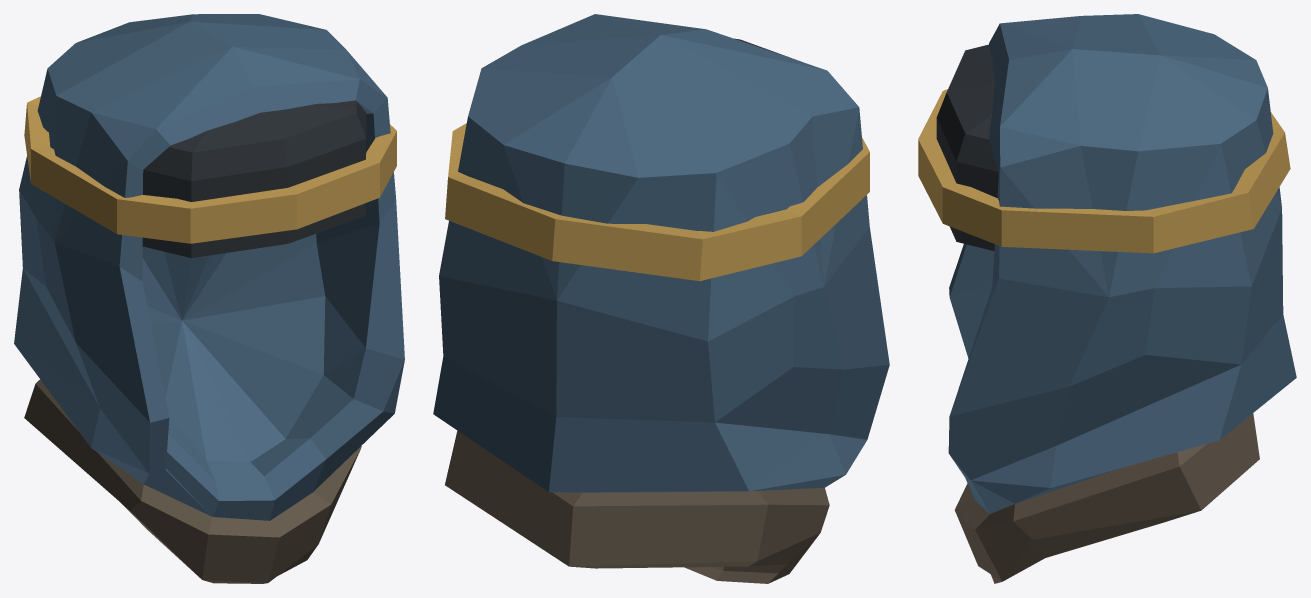
The model's file is Chr_HeadCoverings_No_Hair_01_Static.fbx.
3 renders of one model, left to right at view 1: azimuth 30°, elevation 25°; view 2: azimuth 150°, elevation 25°; view 3: azimuth 270°, elevation 25°, orthographic. The views are drawn at different scales.
Visible parts, largest first — view 1: Chr_HeadCoverings_No_Hair_01_Static; view 2: Chr_HeadCoverings_No_Hair_01_Static; view 3: Chr_HeadCoverings_No_Hair_01_Static.
Part boxes in pixels (left/top/right/bottom): Chr_HeadCoverings_No_Hair_01_Static: left=14, top=14, right=404, bottom=583; Chr_HeadCoverings_No_Hair_01_Static: left=433, top=14, right=889, bottom=583; Chr_HeadCoverings_No_Hair_01_Static: left=918, top=14, right=1296, bottom=583.
Size of the model in its own units: 0.3004 by 0.4744 by 0.3089.
